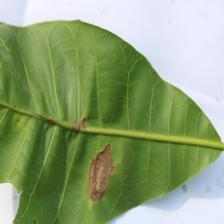leaf miner: (0, 18, 224, 224), (88, 144, 116, 202)
